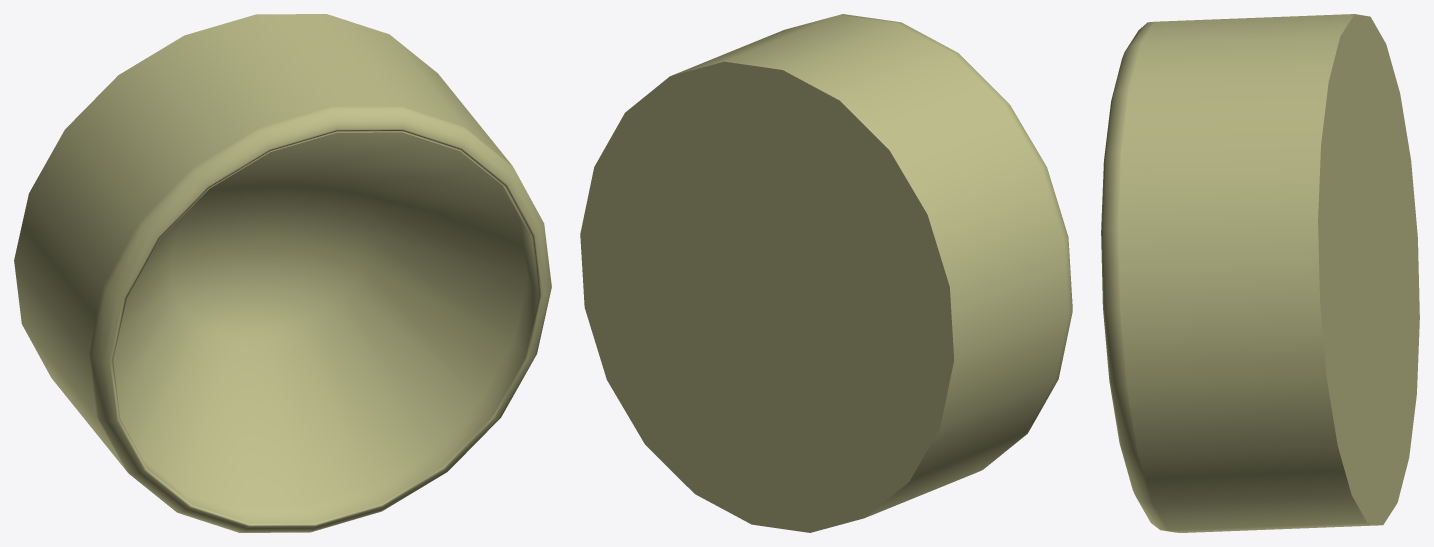
Rendered from TL1_8shapes_Round_Classic_Metal.001 3.glb.
3 views of the same model, side by side, from view 1: azimuth 30°, elevation 25°; view 2: azimuth 150°, elevation 25°; view 3: azimuth 270°, elevation 25° (orthographic). The views are drawn at different scales.
Visible parts, largest first — view 1: TL1_8shapes_Round_Classic_Metal.001; view 2: TL1_8shapes_Round_Classic_Metal.001; view 3: TL1_8shapes_Round_Classic_Metal.001.
Boxes of the visible parts, bbox=[...] form: TL1_8shapes_Round_Classic_Metal.001: bbox=[14, 14, 551, 532]; TL1_8shapes_Round_Classic_Metal.001: bbox=[580, 14, 1072, 532]; TL1_8shapes_Round_Classic_Metal.001: bbox=[1101, 14, 1419, 532].
Bounding box in the file's own units: 0.587 × 0.5853 × 0.3501.
